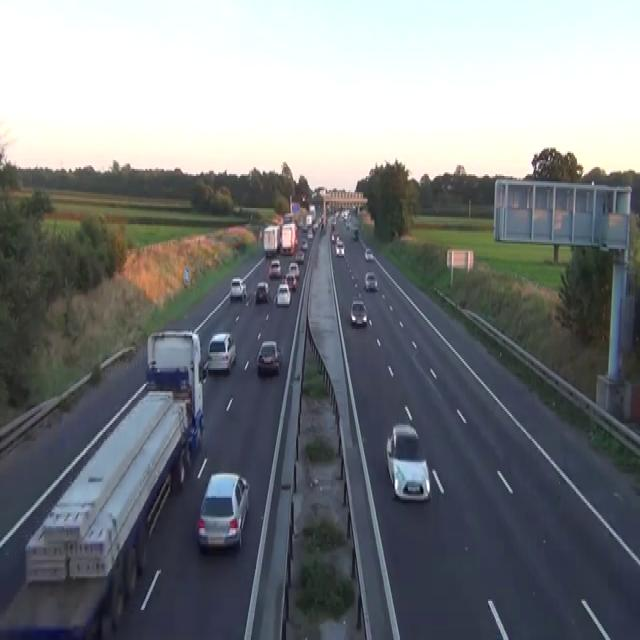Car: (197, 471, 249, 553), (385, 423, 431, 501), (207, 331, 236, 373), (256, 340, 282, 375), (350, 299, 367, 327), (274, 282, 291, 306), (229, 278, 246, 300), (255, 281, 269, 302), (364, 270, 378, 290), (268, 258, 281, 279), (284, 272, 297, 290), (288, 261, 299, 279), (335, 240, 344, 256), (364, 247, 373, 260), (295, 251, 304, 263), (300, 238, 308, 251), (331, 231, 339, 244), (352, 226, 358, 240), (312, 222, 318, 231), (302, 222, 308, 231), (331, 219, 336, 229), (345, 220, 350, 230), (307, 230, 313, 238), (300, 194, 306, 202), (335, 234, 340, 243), (331, 233, 334, 242)
Truck: (1, 384, 191, 638), (145, 329, 204, 427), (263, 224, 280, 258), (280, 220, 297, 254)
